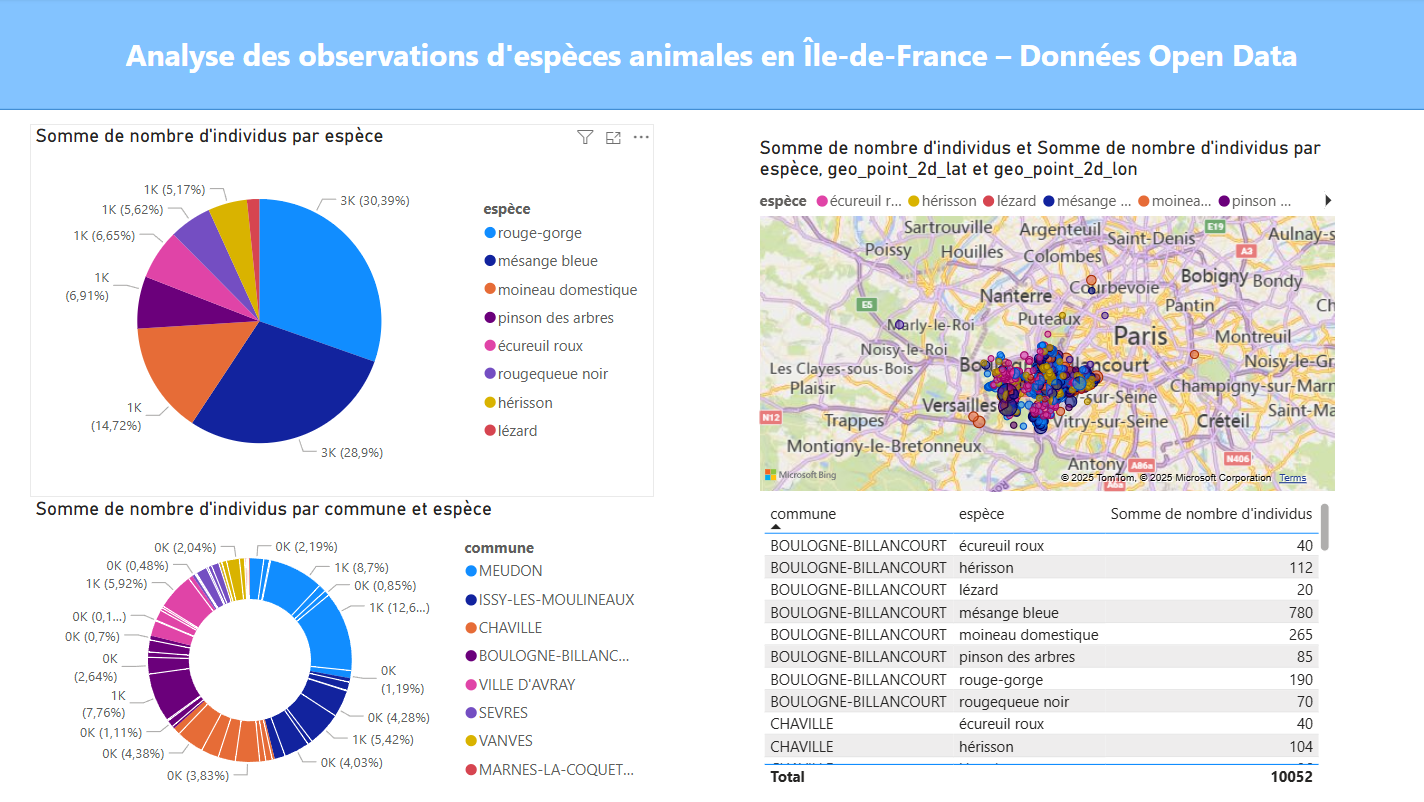

What the dashboard file says about the page in this screenshot:
{"tool":"powerbi","page":{"name":"Page 1","canvas":[1280,720],"ordinal":0},"visuals":[{"type":"pieChart","fields":{"Y":["Sum(public Observation.nb_individus)"],"Category":["public Observation.espece"]},"box":[29.6,112.8,558.8,334],"z":0},{"type":"map","fields":{"Y":["public Observation.geo_point_2d_lat"],"X":["public Observation.geo_point_2d_lon"],"Series":["public Observation.espece"],"Size":["Sum(public Observation.nb_individus)"]},"box":[677.9,123.6,524.8,323.3],"z":1000},{"type":"donutChart","fields":{"Category":["public Observation.commune"],"Series":["public Observation.espece"],"Y":["Sum(public Observation.nb_individus)"]},"box":[29.6,446.9,558.8,273.1],"z":2000},{"type":"tableEx","fields":{"Values":["public Observation.commune","public Observation.espece","Sum(public Observation.nb_individus)"]},"box":[694,446.9,491.6,264.2],"z":3000},{"type":"shape","title":"Répartition et visualisation des especes","box":[0,0,1279.7,100.3],"z":4000}]}

Visuals, with their boxes in screenshot pixels (x1, y1, x2, y2), scaled from the page's 1280x720 canvas onto the 1424x802 screenshot:
pieChart - Sum(public Observation.nb_individus) x public Observation.espece: x1=33, y1=126, x2=655, y2=498
map - public Observation.geo_point_2d_lat x public Observation.geo_point_2d_lon: x1=754, y1=138, x2=1338, y2=498
donutChart - public Observation.commune x public Observation.espece: x1=33, y1=498, x2=655, y2=801
tableEx - public Observation.commune x public Observation.espece: x1=772, y1=498, x2=1319, y2=792
"Répartition et visualisation des especes" shape: x1=0, y1=0, x2=1423, y2=112
